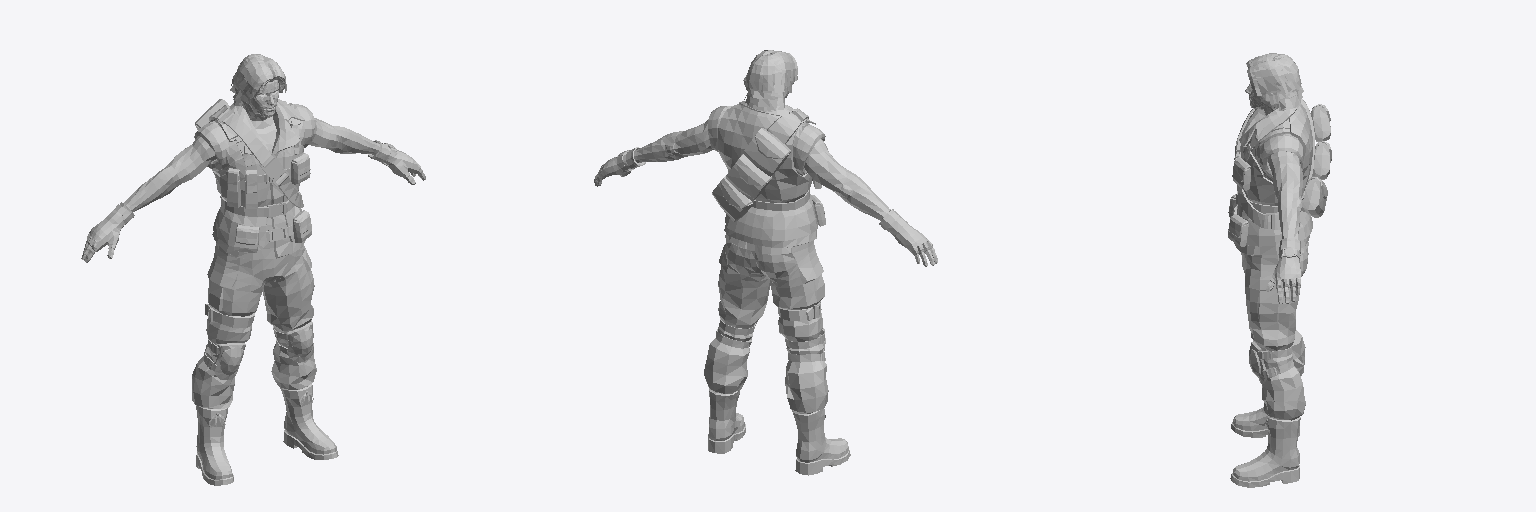
The model's file is CarlosOBJ.obj.
3 views of the same model, side by side, from view 1: azimuth 30°, elevation 25°; view 2: azimuth 150°, elevation 25°; view 3: azimuth 270°, elevation 25° (orthographic).
Parts seen in each view (by area): view 1: 2, 3, 4, 0, 1; view 2: 2, 3, 4, 0, 5; view 3: 3, 2, 4, 0, 5.
Boxes of the visible parts, <box> form: 2: <box>192,239,338,485</box>; 3: <box>87,99,420,259</box>; 4: <box>81,118,425,262</box>; 0: <box>233,54,285,106</box>; 1: <box>245,68,278,151</box>; 2: <box>704,234,850,475</box>; 3: <box>599,101,932,255</box>; 4: <box>594,120,937,266</box>; 0: <box>744,50,797,111</box>; 5: <box>743,50,797,109</box>; 3: <box>1228,99,1331,288</box>; 2: <box>1230,242,1308,487</box>; 4: <box>1266,151,1302,303</box>; 0: <box>1246,53,1302,110</box>; 5: <box>1246,54,1303,111</box>.
Bounding box in the file's own units: 1.65 × 1.86 × 0.439.